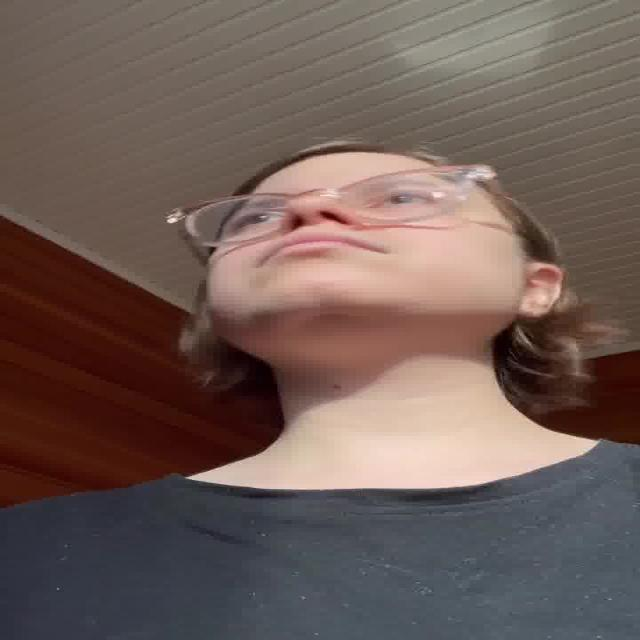earlobe: (517, 264, 563, 320)
